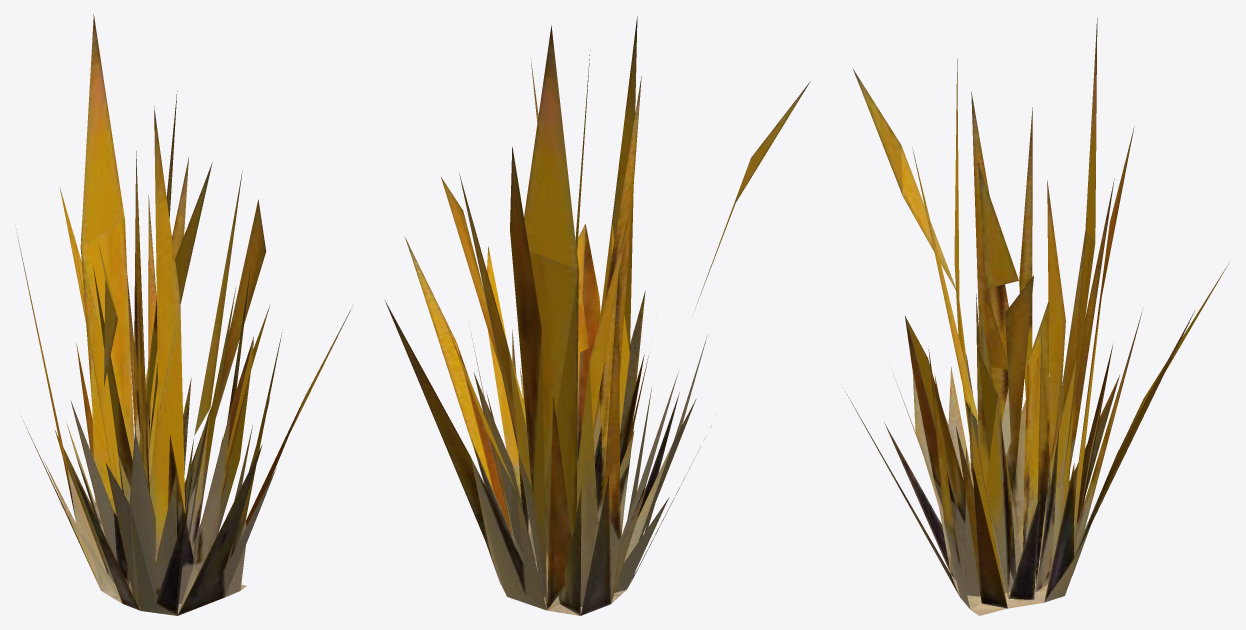
The model's file is grass.glb.
3 views of the same model, side by side, from view 1: azimuth 30°, elevation 25°; view 2: azimuth 150°, elevation 25°; view 3: azimuth 270°, elevation 25° (orthographic). The views are drawn at different scales.
Bounding box in the file's own units: 1.12 × 1.87 × 1.19.
1 material, 1 textured.
